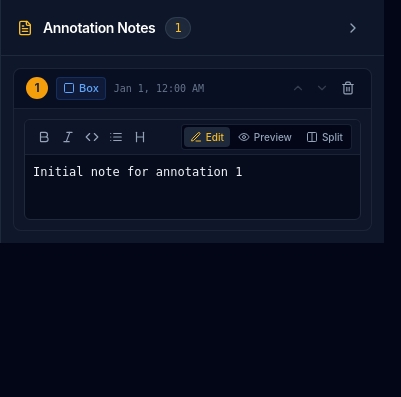
Test case: NotesSidebar Component Test Suite › Suite 5: Single-Click Deletion & Re-indexing › T5.2: Deleting all annotations transitions view to empty state
Click the button with test id "note-card-delete-1" at (348, 88), box top-left (337, 77), bottom-right (359, 99)
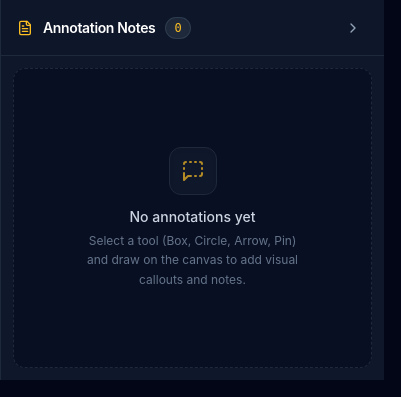
Expected: the message with test id "sidebar-empty-state" is shown
Expected: the text with test id "sidebar-count-badge" reads "0", top-left (174, 20), bottom-right (182, 34)
